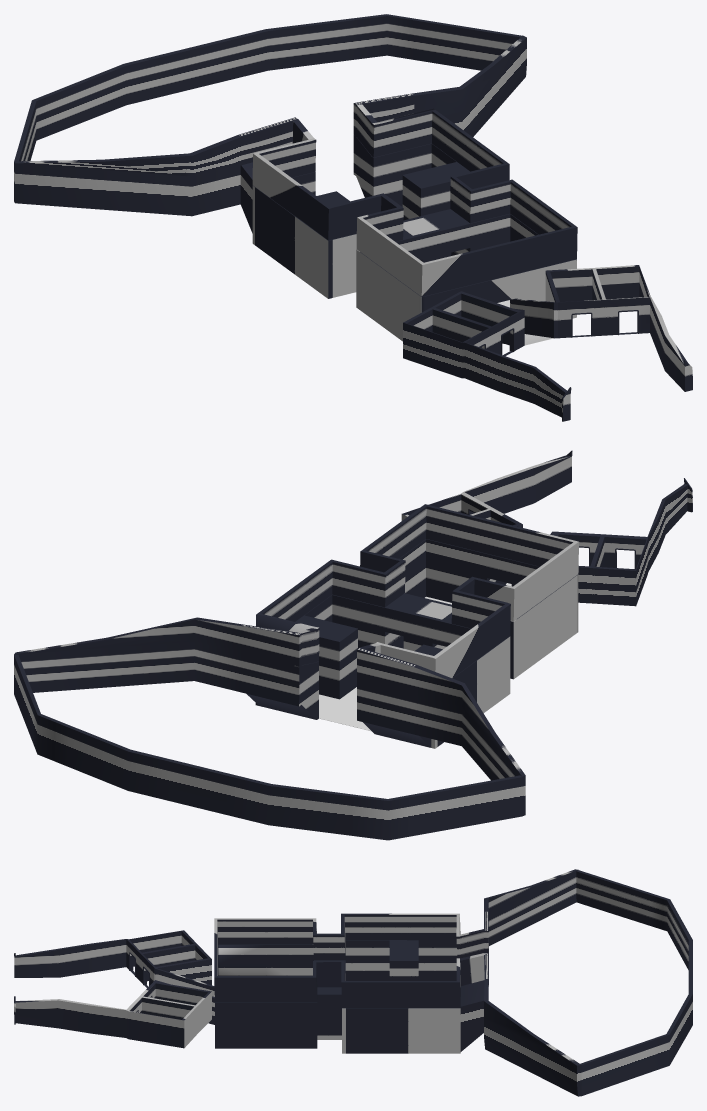
The model's file is ship internals 1.fbx.
3 views of the same model, one above another, from view 1: azimuth 30°, elevation 25°; view 2: azimuth 150°, elevation 25°; view 3: azimuth 270°, elevation 25° (orthographic). The views are drawn at different scales.
Visible parts, largest first — view 1: EngineRoom, Top-Back Room Walls, HangerRoomWalls, Bedrooms_Right, Modular Room, EngineRoomUpperWall, Bedrooms_Left, FrontRoomCorridorWalls, LowerConnectingCorridor, UpperCorridor1; view 2: EngineRoom, Top-Back Room Walls, HangerRoomWalls, EngineRoomUpperWall, Modular Room, Bedrooms_Right, Bedrooms_Left, ModularRoomFloor, LowerConnectingCorridor, UpperCorridor1; view 3: EngineRoom, Top-Back Room Walls, HangerRoomWalls, Modular Room, Bedrooms_Left, Bedrooms_Right, EngineRoomUpperWall, LowerConnectingCorridor, UpperCorridor1, FrontRoomCorridorWalls.
Part boxes in pixels (box(x1,y1,x2,y2)): EngineRoom: box(14, 14, 526, 233); Top-Back Room Walls: box(252, 108, 577, 296); HangerRoomWalls: box(252, 143, 469, 298); Bedrooms_Right: box(403, 291, 571, 421); Modular Room: box(356, 213, 576, 341); EngineRoomUpperWall: box(14, 35, 526, 176); Bedrooms_Left: box(545, 265, 692, 391); FrontRoomCorridorWalls: box(502, 298, 557, 346); LowerConnectingCorridor: box(403, 210, 468, 255); UpperCorridor1: box(292, 104, 376, 155); EngineRoom: box(14, 641, 525, 840); Top-Back Room Walls: box(256, 504, 578, 678); HangerRoomWalls: box(255, 594, 510, 748); EngineRoomUpperWall: box(14, 617, 525, 776); Modular Room: box(399, 539, 578, 679); Bedrooms_Right: box(554, 478, 692, 606); Bedrooms_Left: box(401, 450, 572, 526); ModularRoomFloor: box(319, 583, 511, 731); LowerConnectingCorridor: box(387, 594, 451, 649); UpperCorridor1: box(297, 628, 380, 664); EngineRoom: box(460, 870, 692, 1096); Top-Back Room Walls: box(214, 913, 460, 1007); HangerRoomWalls: box(342, 940, 460, 1053); Modular Room: box(215, 944, 317, 1048); Bedrooms_Left: box(14, 981, 211, 1048); Bedrooms_Right: box(14, 930, 211, 987); EngineRoomUpperWall: box(484, 869, 581, 1065); LowerConnectingCorridor: box(317, 960, 341, 1039); UpperCorridor1: box(459, 929, 484, 985); FrontRoomCorridorWalls: box(154, 967, 214, 1024).
Size of the model in its own units: 7065 by 1294 by 10340.
Materials: 1 (1 with a texture image).
